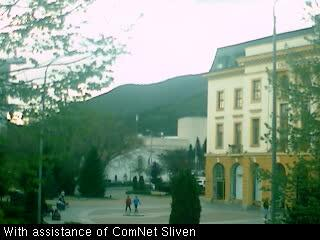person: (261, 197, 270, 223), (124, 194, 133, 213), (133, 195, 141, 214), (59, 190, 65, 205)
